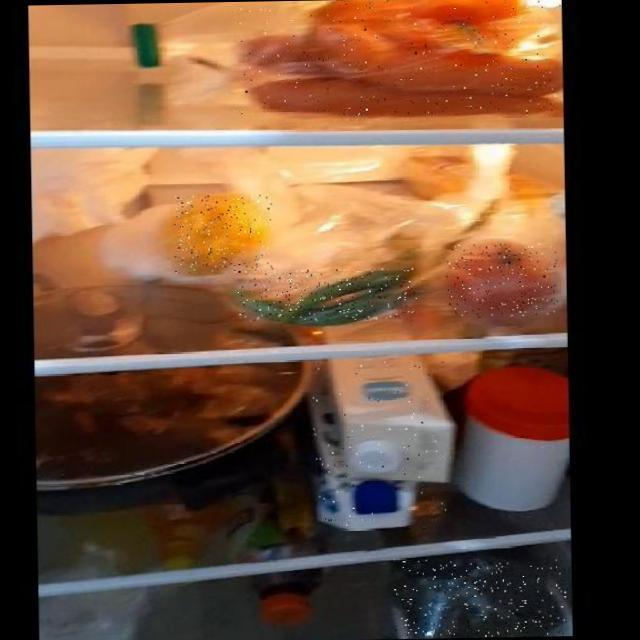Brocoli: (393, 556, 568, 639)
Limón: (174, 194, 273, 272)
Zanahoria: (236, 0, 562, 117)
green chilies: (237, 268, 417, 322)
milk: (312, 360, 449, 528)
tomato paste: (446, 243, 558, 319)
